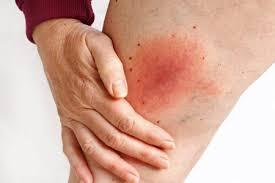Tick: (122, 30, 206, 113)
